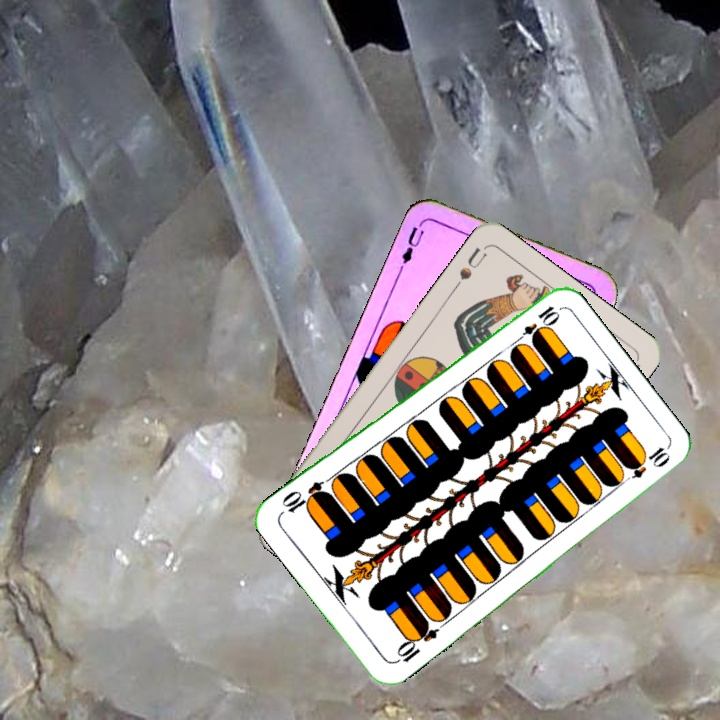E10: (390, 618, 441, 667), (510, 301, 562, 348)
EU: (397, 217, 427, 267)
SU: (448, 243, 490, 294)
